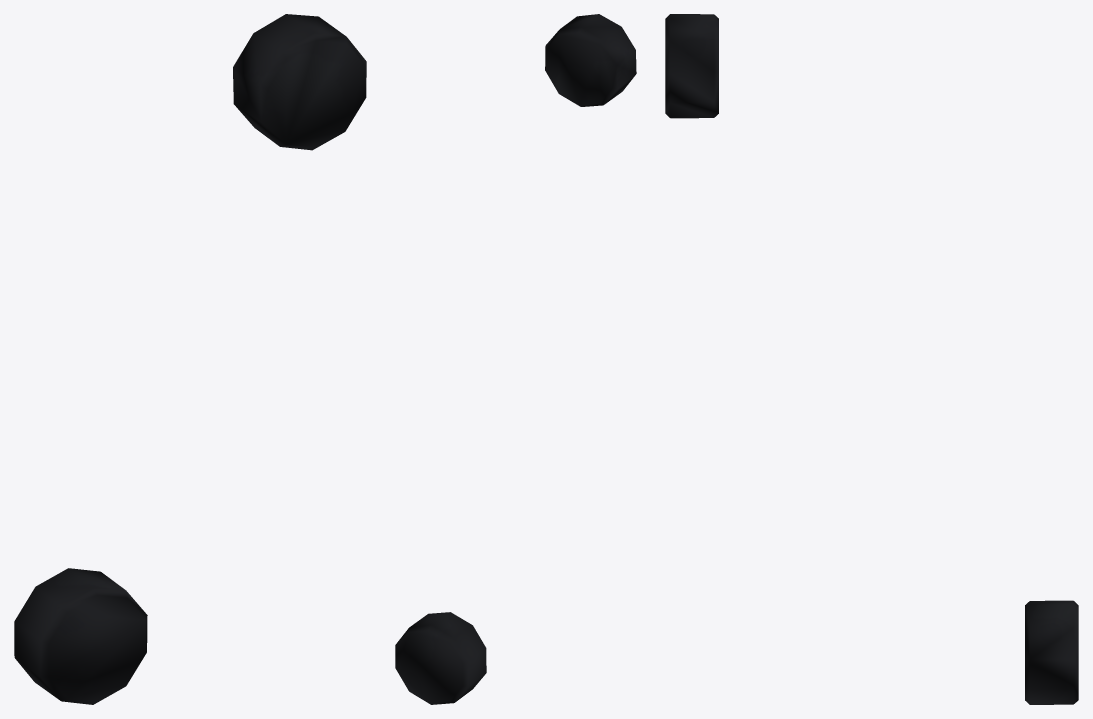
File: Camara_Lente.fbx
3 renders of one model, left to right at view 1: azimuth 30°, elevation 25°; view 2: azimuth 150°, elevation 25°; view 3: azimuth 270°, elevation 25°, orthographic. The views are drawn at different scales.
Parts seen in each view (by area): view 1: Camara_Lente; view 2: Camara_Lente; view 3: Camara_Lente.
Boxes of the visible parts, <box> form: Camara_Lente: <box>14,14,366,704</box>; Camara_Lente: <box>395,14,636,704</box>; Camara_Lente: <box>665,14,1078,704</box>.
Bounding box in the file's own units: 0.563 × 4.19 × 2.3.
